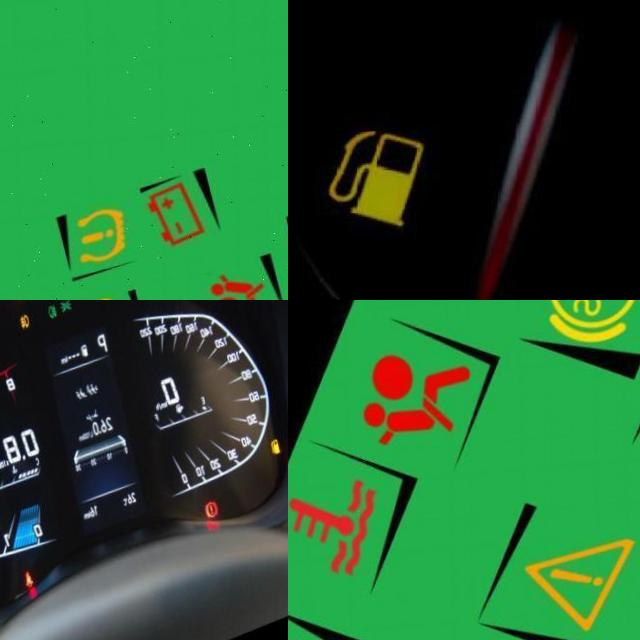Seat Belt: (21, 577, 31, 592)
